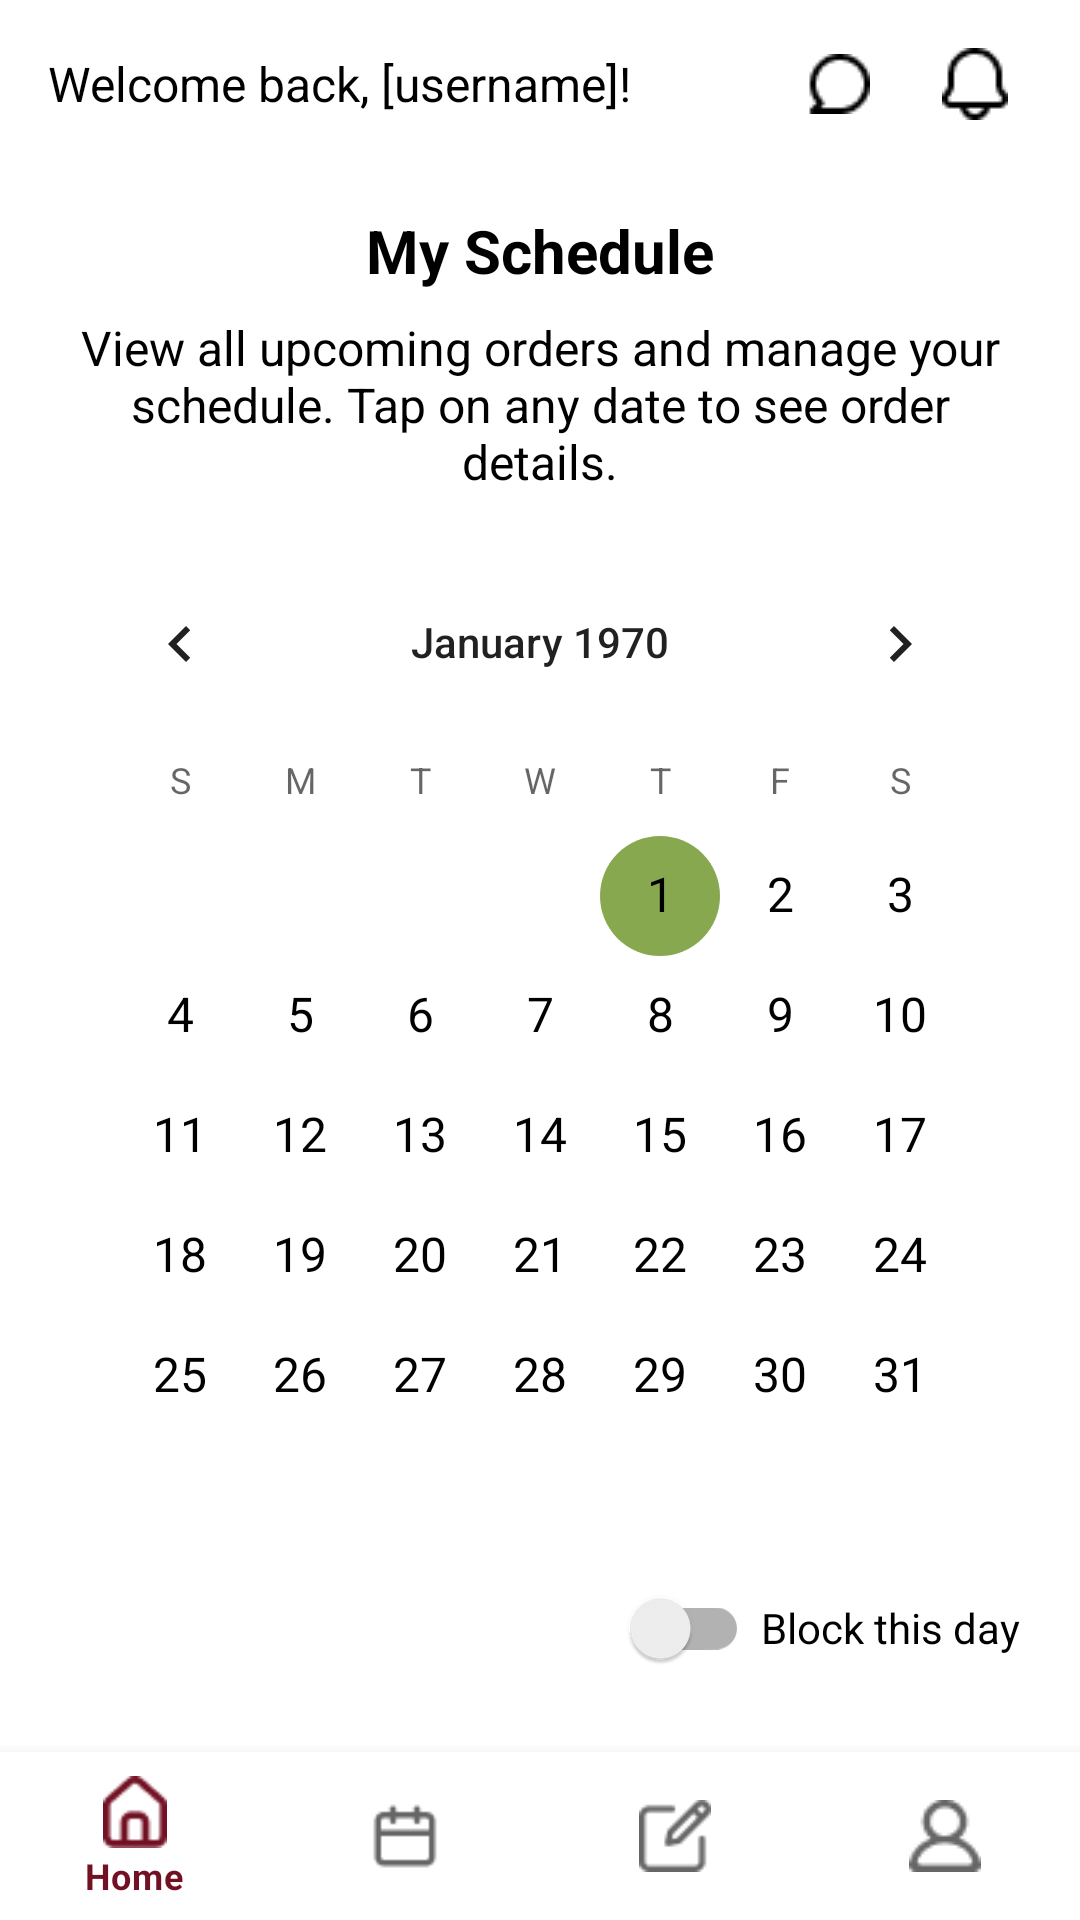

Where icons sit on this 1080w x 1920h app screen, as (x1, y1, x2, y2):
Chat Icon: (809, 54, 870, 114)
Notification Icon: (942, 48, 1008, 120)
